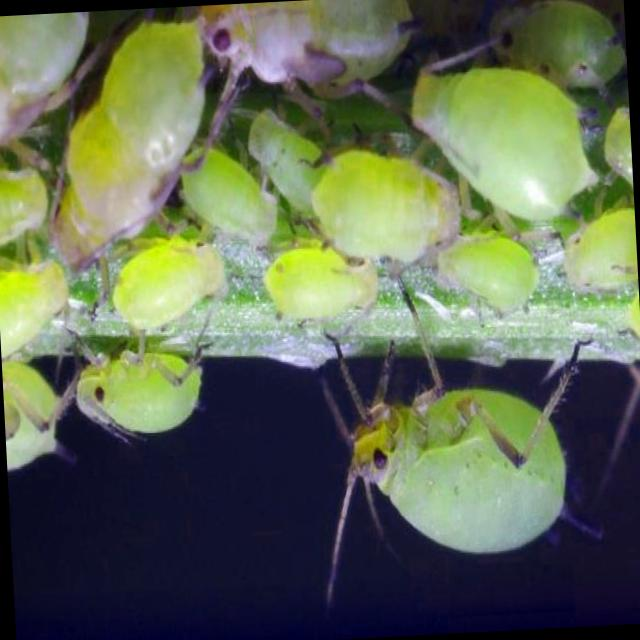aphid: (292, 300, 638, 616), (42, 16, 242, 269), (403, 45, 595, 212), (49, 330, 222, 464), (194, 0, 405, 101), (303, 133, 461, 265), (238, 225, 392, 328), (109, 225, 232, 330), (168, 137, 288, 243), (430, 214, 550, 316), (0, 247, 78, 353), (560, 215, 639, 302)
